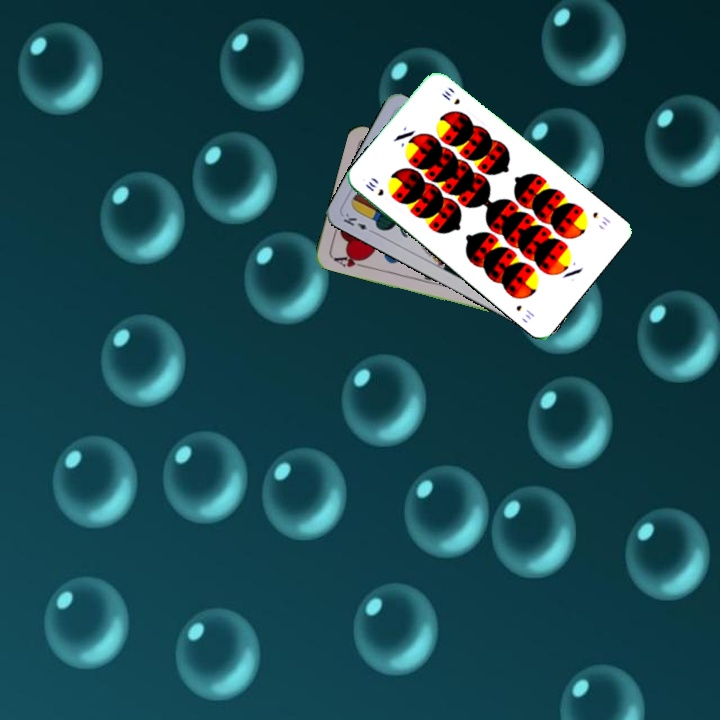EK: (339, 209, 378, 236)
HA: (329, 250, 369, 270)
S10: (361, 177, 386, 198), (589, 208, 613, 229)
